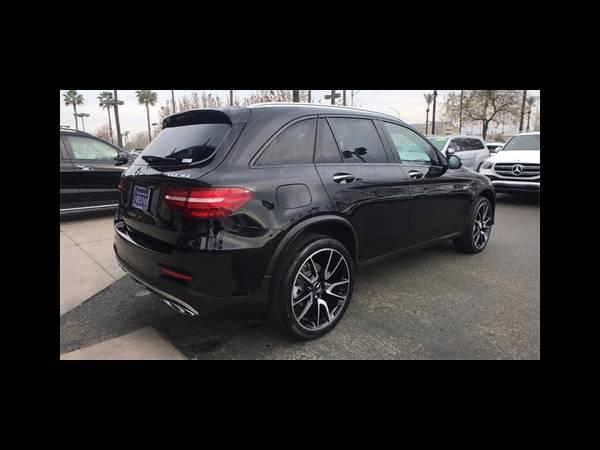Front_Fender: (461, 172, 496, 234)
Front_Right_Door: (402, 162, 463, 252)
Front_Right_Window: (374, 122, 448, 169)
Rear_Bumper: (113, 214, 295, 310)
Rear_Fender: (192, 117, 339, 232)
Rear_Right_Door: (315, 163, 410, 263)
Rear_Right_Window: (312, 113, 395, 163)
Rear_Windshield: (135, 114, 233, 166)
Right_Taillight: (164, 184, 253, 218)
Roof: (159, 103, 446, 165)
Tailgate: (119, 161, 216, 243)
Wheel: (275, 231, 358, 336), (468, 202, 493, 255)
